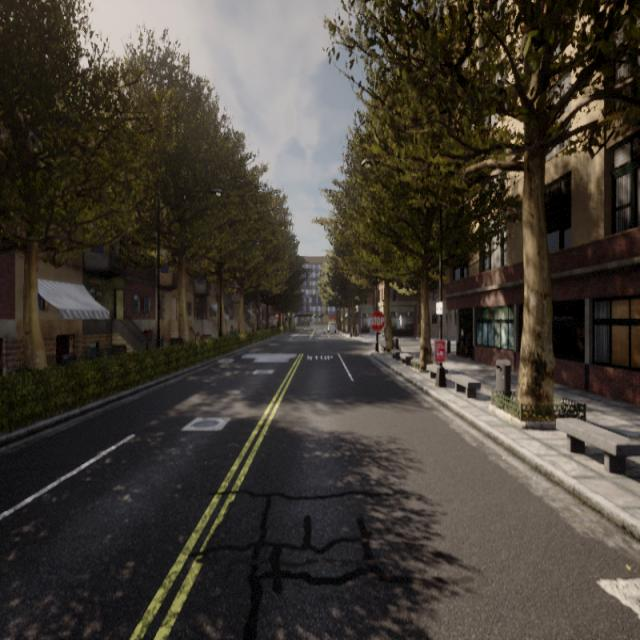stop sign: (368, 306, 387, 353), (368, 308, 386, 332)
